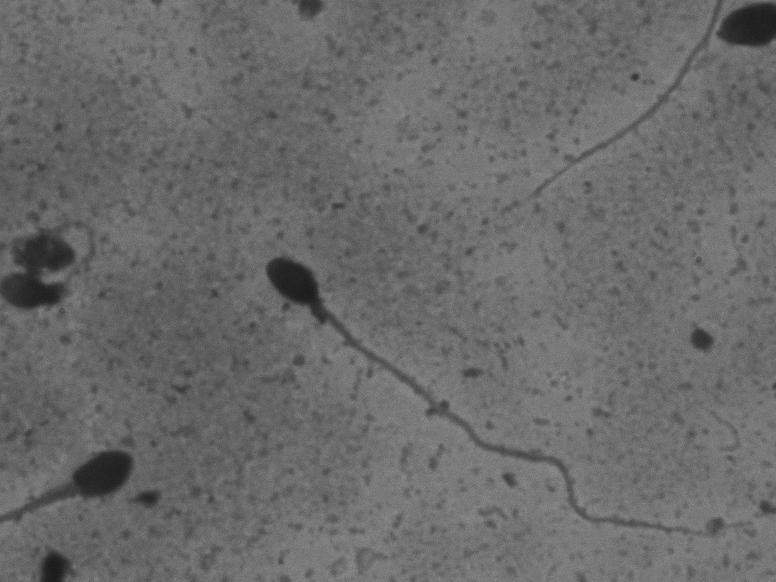Abnormal: (15, 404, 153, 564)
Normal: (247, 241, 739, 558)
